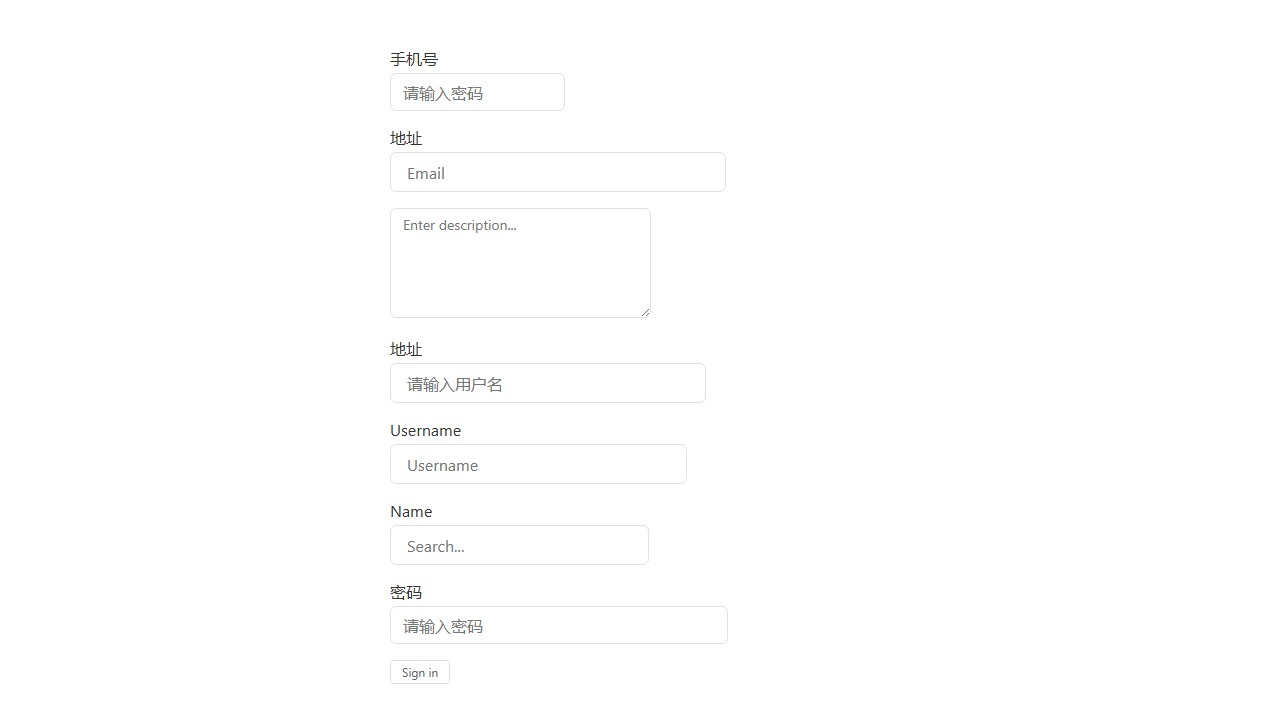button: (390, 660, 450, 684)
input: (390, 152, 726, 192), (390, 606, 728, 644), (390, 363, 706, 403), (390, 444, 687, 484), (390, 525, 649, 565), (390, 73, 565, 111)
textarea: (390, 208, 651, 318)
